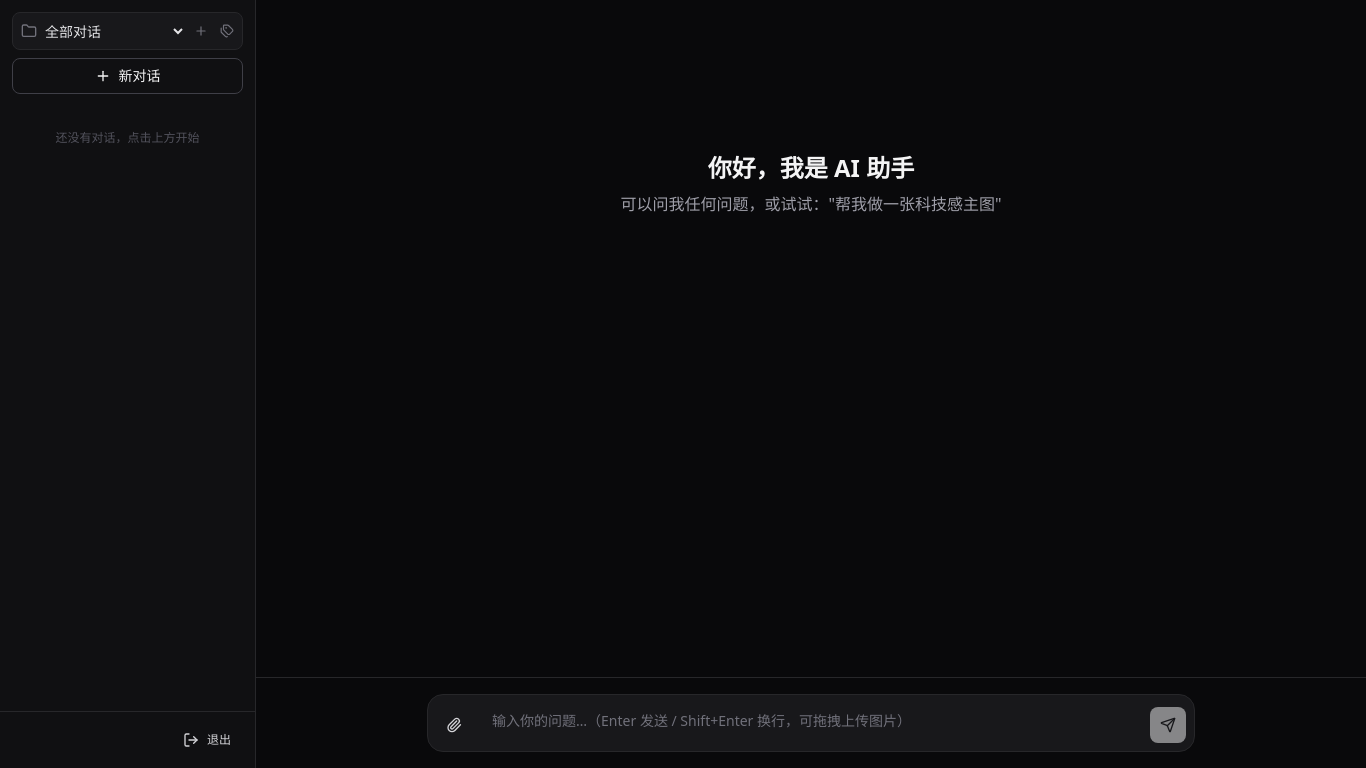
Test: ChatWorkspace 消息流（SSE 解析 → 渲染） › 发送后立刻显示用户气泡与思考态，并以 SSE 请求后端
The image size is (1366, 768).
Expected: the button "新对话" is shown, [12,58,243,94]
Type "你好" into the text box with placeholder "输入你的问题…（Enter 发送 / Shift+Enter 换行，可拖拽上传图片）" at coordinates (811, 723), box [480,703,1142,743]
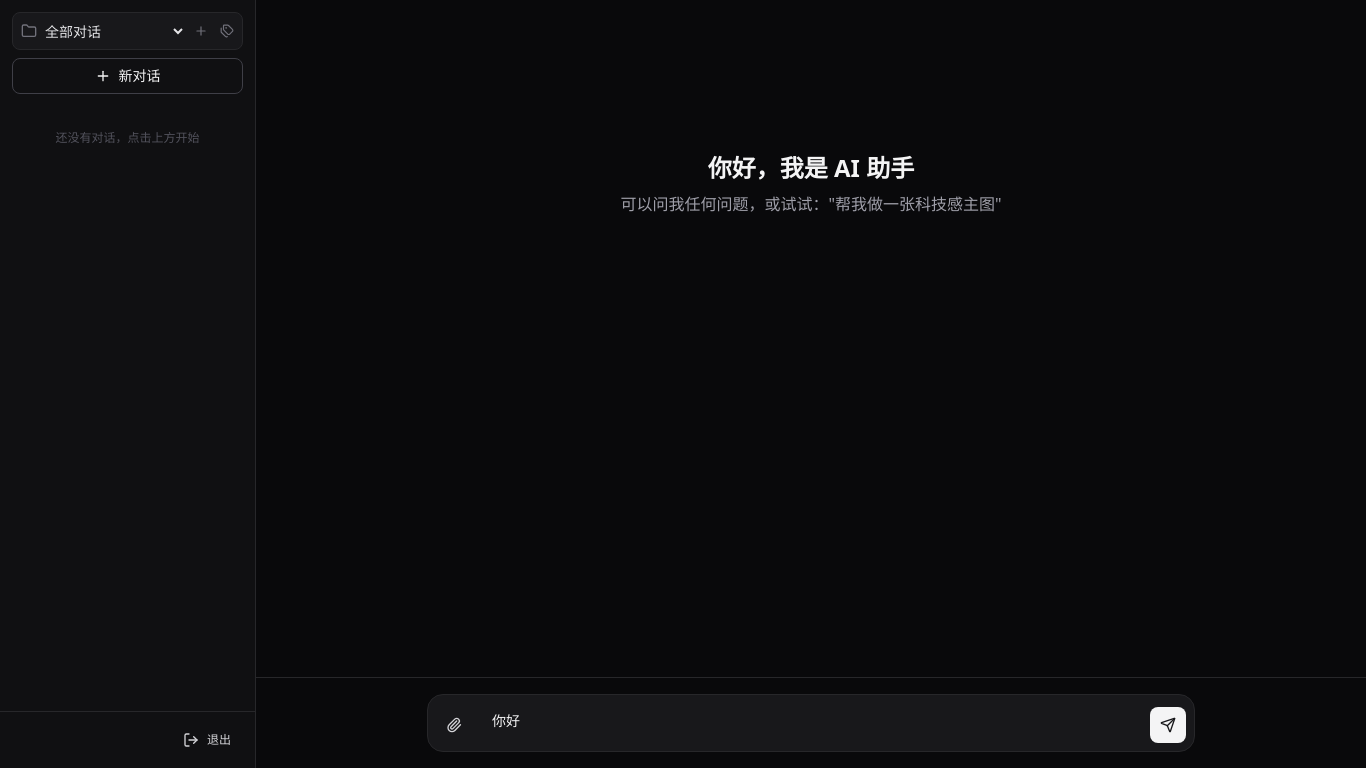
Click the button titled "发送" at coordinates (1168, 725), box [1150,707,1186,743]
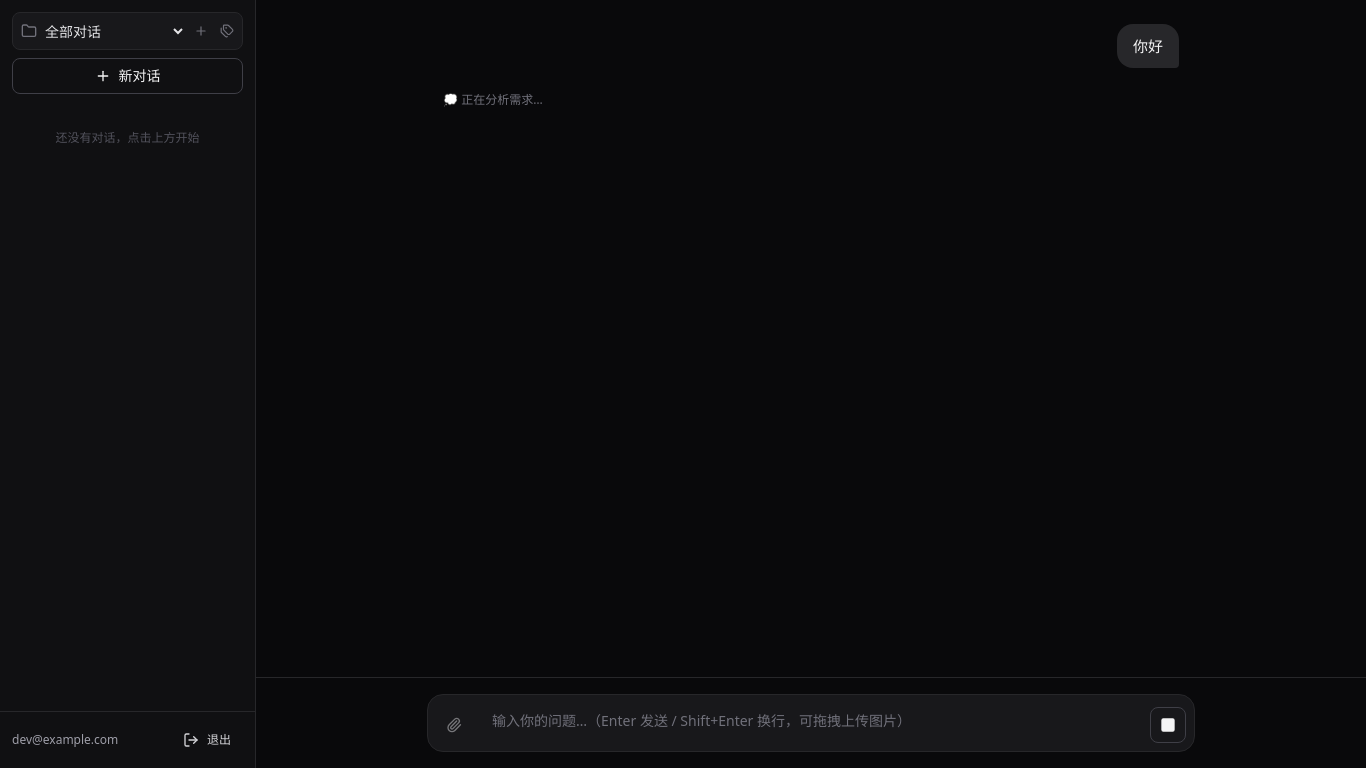
Expected: the text "你好" is shown, [1117,24,1179,68]
Result: the text "💭 正在分析需求…" is shown at [443,91,543,108]
